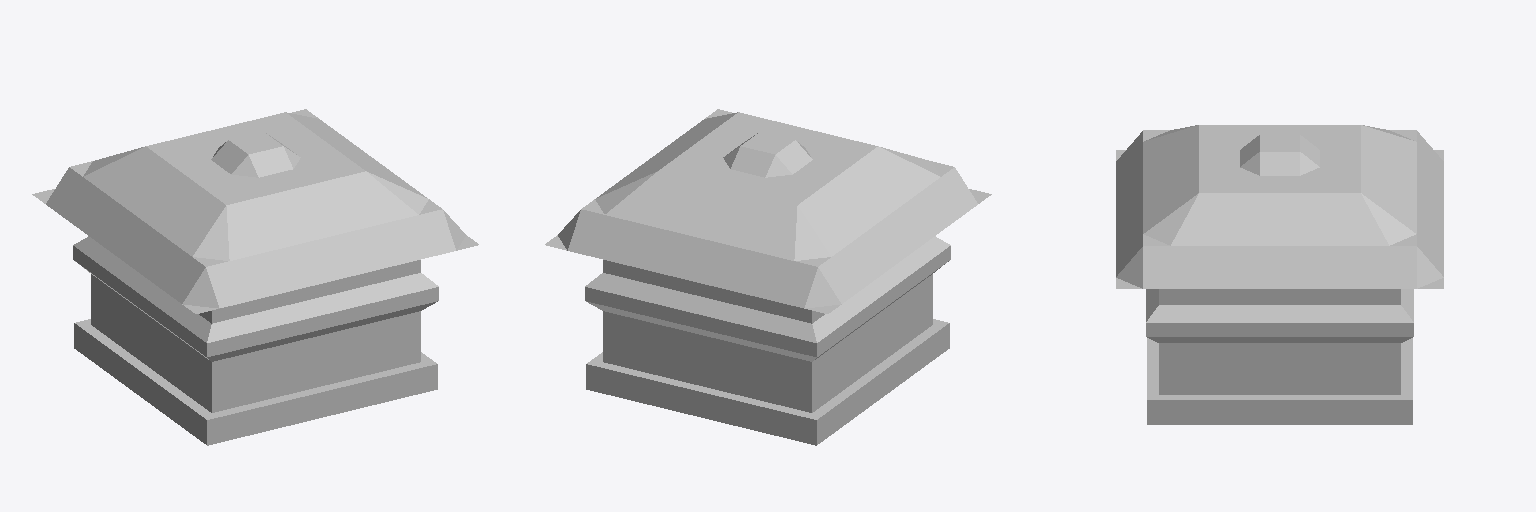
Rendered from Big_House_V.obj.
The picture shows the model from 3 angles: view 1: azimuth 30°, elevation 25°; view 2: azimuth 150°, elevation 25°; view 3: azimuth 270°, elevation 25°; orthographic projection.
Parts seen in each view (by area): view 1: Big_House_V; view 2: Big_House_V; view 3: Big_House_V.
Part boxes in pixels (bbox=[...]): Big_House_V: bbox=[32, 109, 478, 445]; Big_House_V: bbox=[545, 109, 991, 445]; Big_House_V: bbox=[1116, 125, 1443, 424].
Bounding box in the file's own units: 13.57 × 10.31 × 13.57.